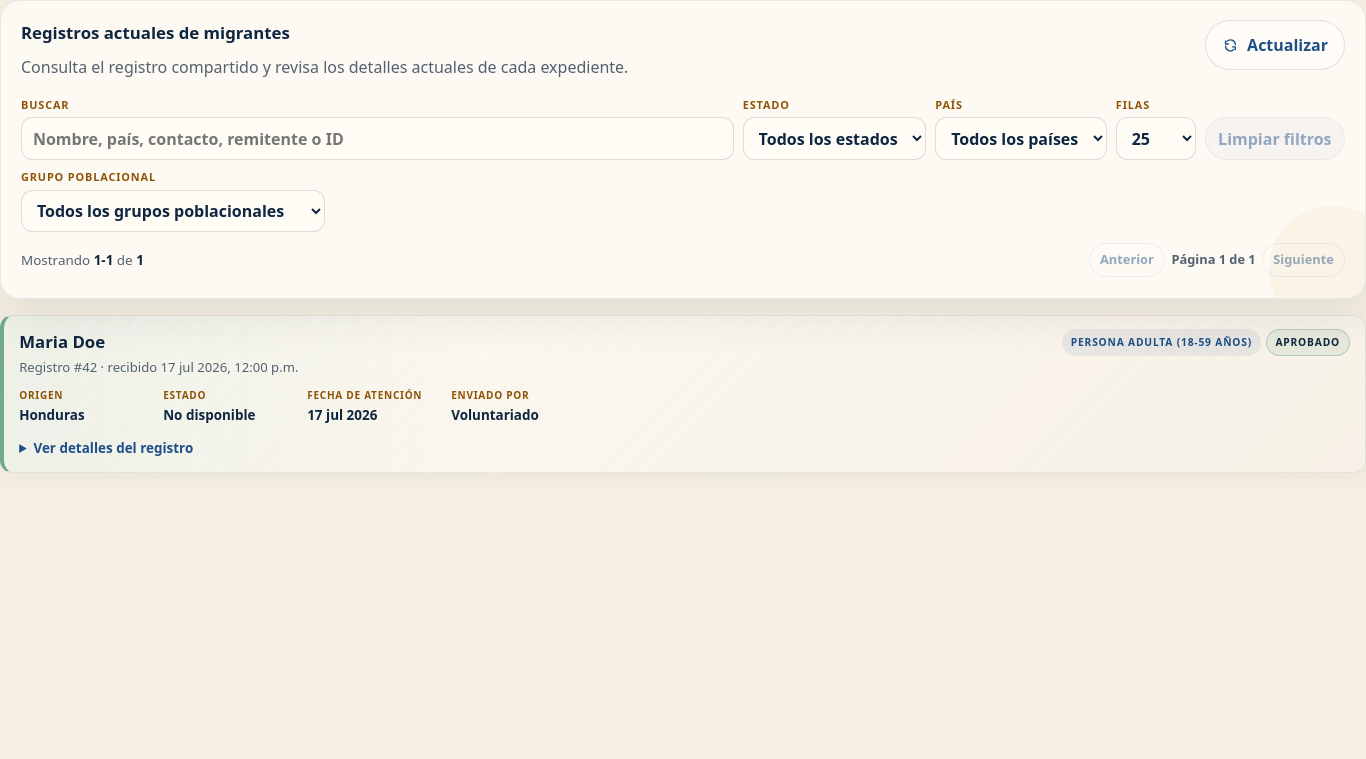
Test: MigrantRegistrationsPage › shows admin-only registry PDF download and completes its passkey flow
Step 1. Click the heading "Ver detalles del registro" → (106, 448), box [19,438,193,458]
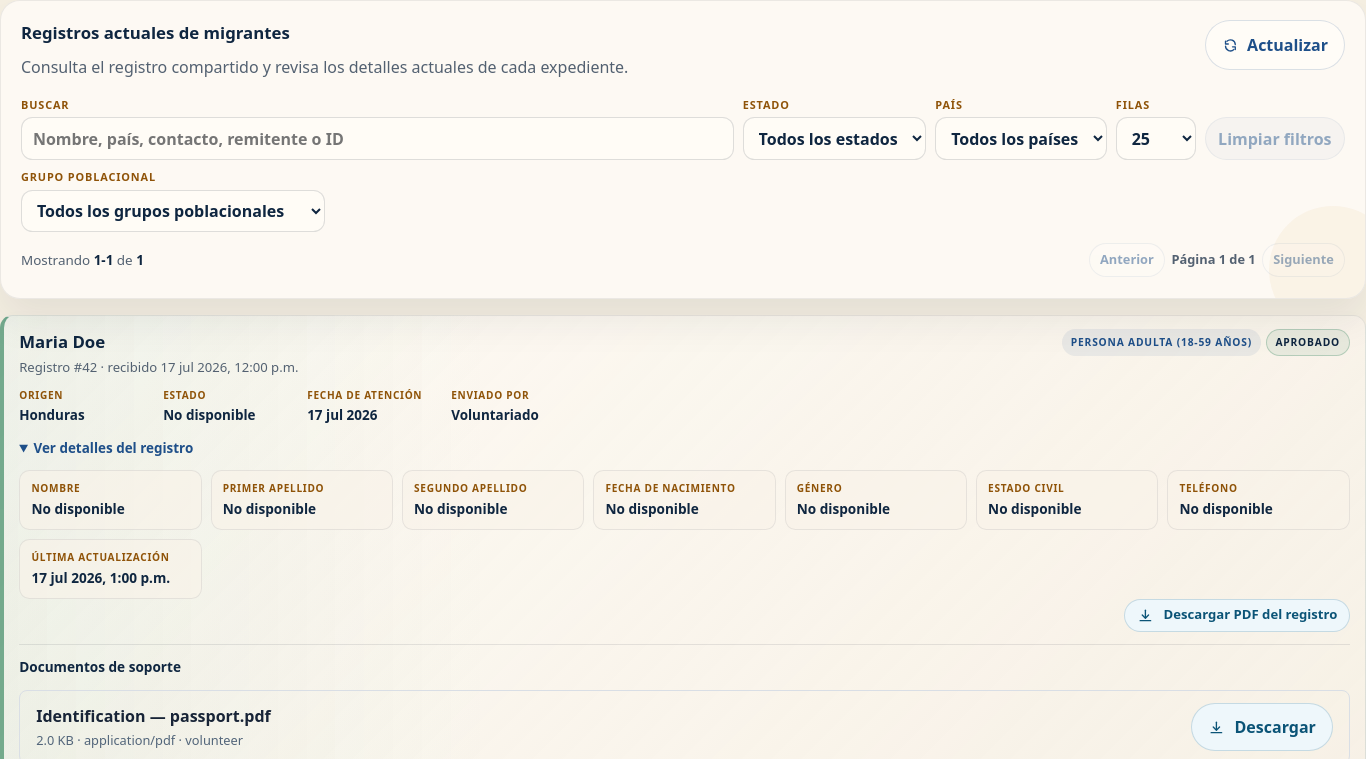
Step 2. Click the button "Descargar PDF del registro" → (1237, 615), box [1124,599,1350,632]
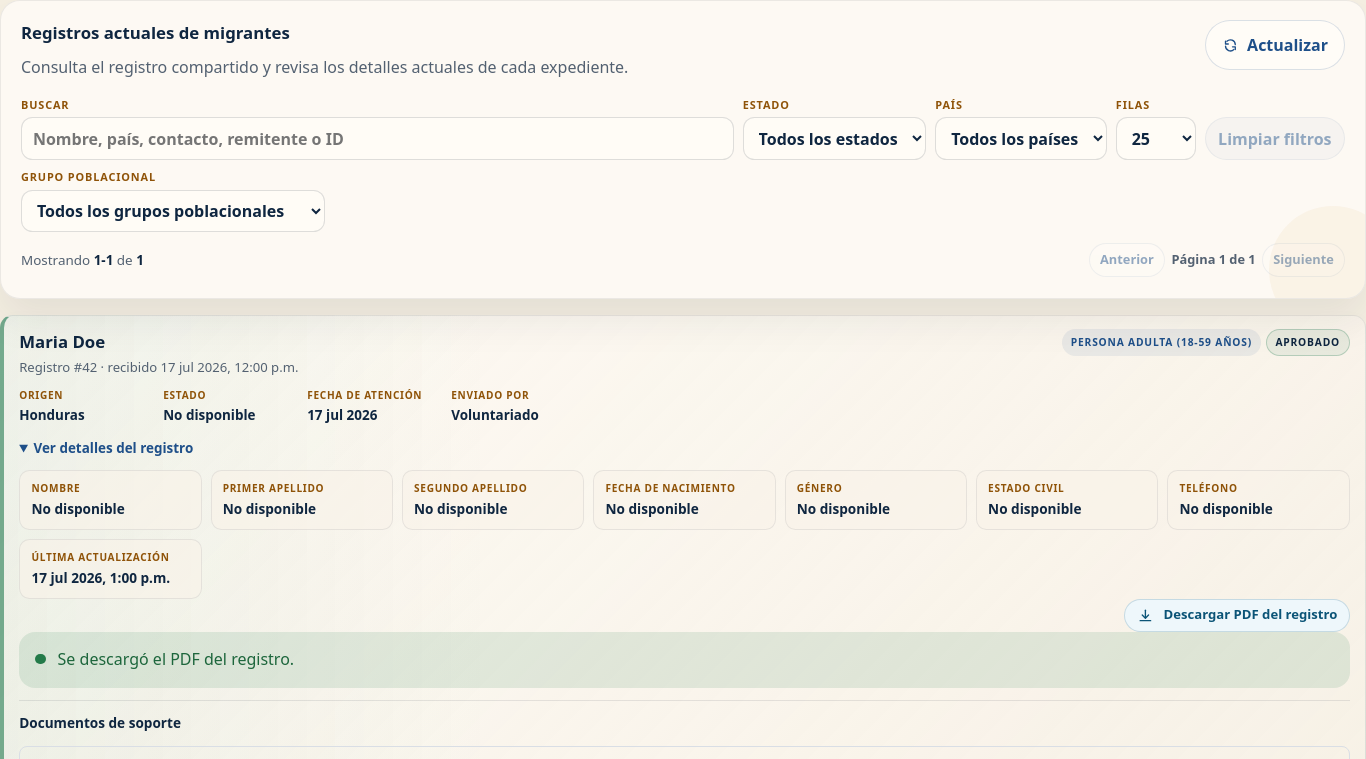
expect the text "Se descargó el PDF del registro." is shown: met, box [19,632,1350,688]
